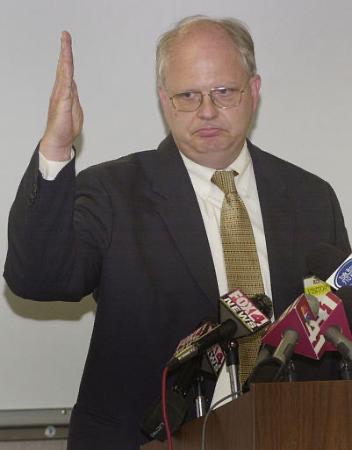Face: (155, 57, 262, 163)
